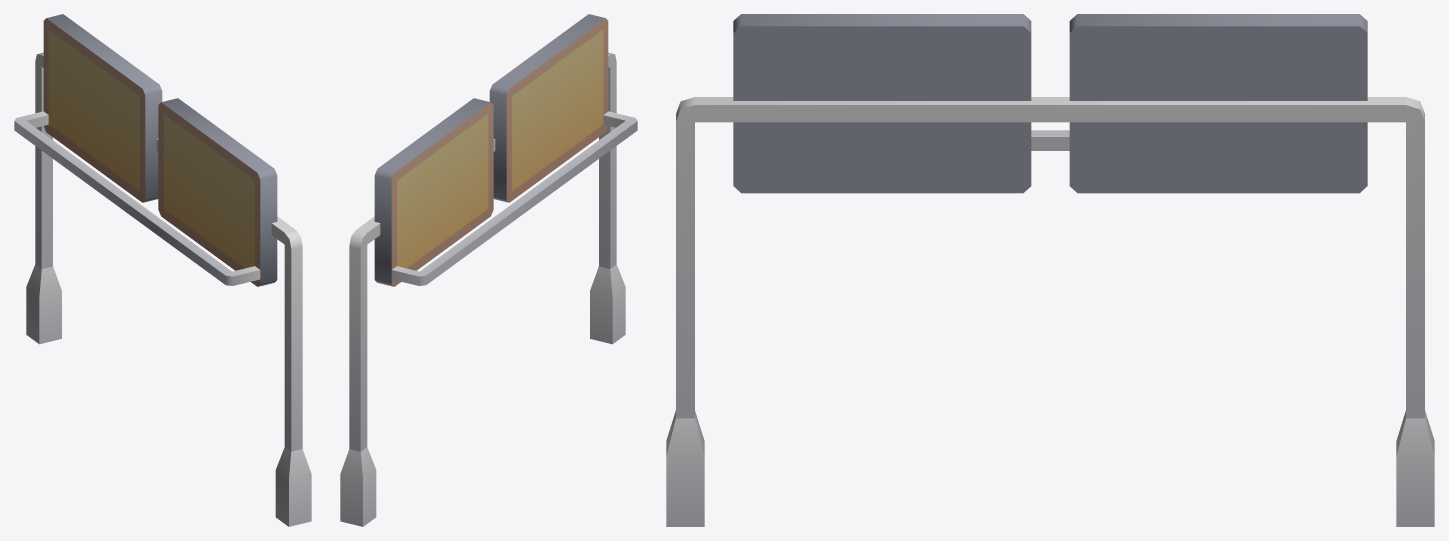
Rendered from sign-highway.glb.
The picture shows the model from 3 angles, left to right: view 1: azimuth 30°, elevation 25°; view 2: azimuth 150°, elevation 25°; view 3: azimuth 270°, elevation 25°; orthographic projection. The views are drawn at different scales.
Parts seen in each view (by area): view 1: sign-highway; view 2: sign-highway; view 3: sign-highway.
Part boxes in pixels (bbox=[...]): sign-highway: bbox=[14, 14, 311, 526]; sign-highway: bbox=[340, 14, 637, 526]; sign-highway: bbox=[666, 14, 1434, 526].
Size of the model in its own units: 0.1324 by 0.7074 by 1.
